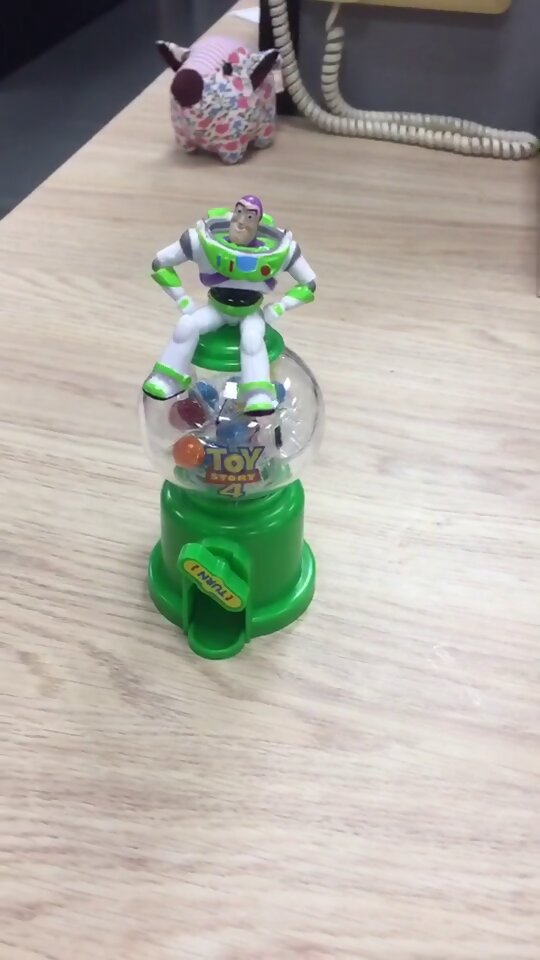buzz: (137, 189, 326, 663)
